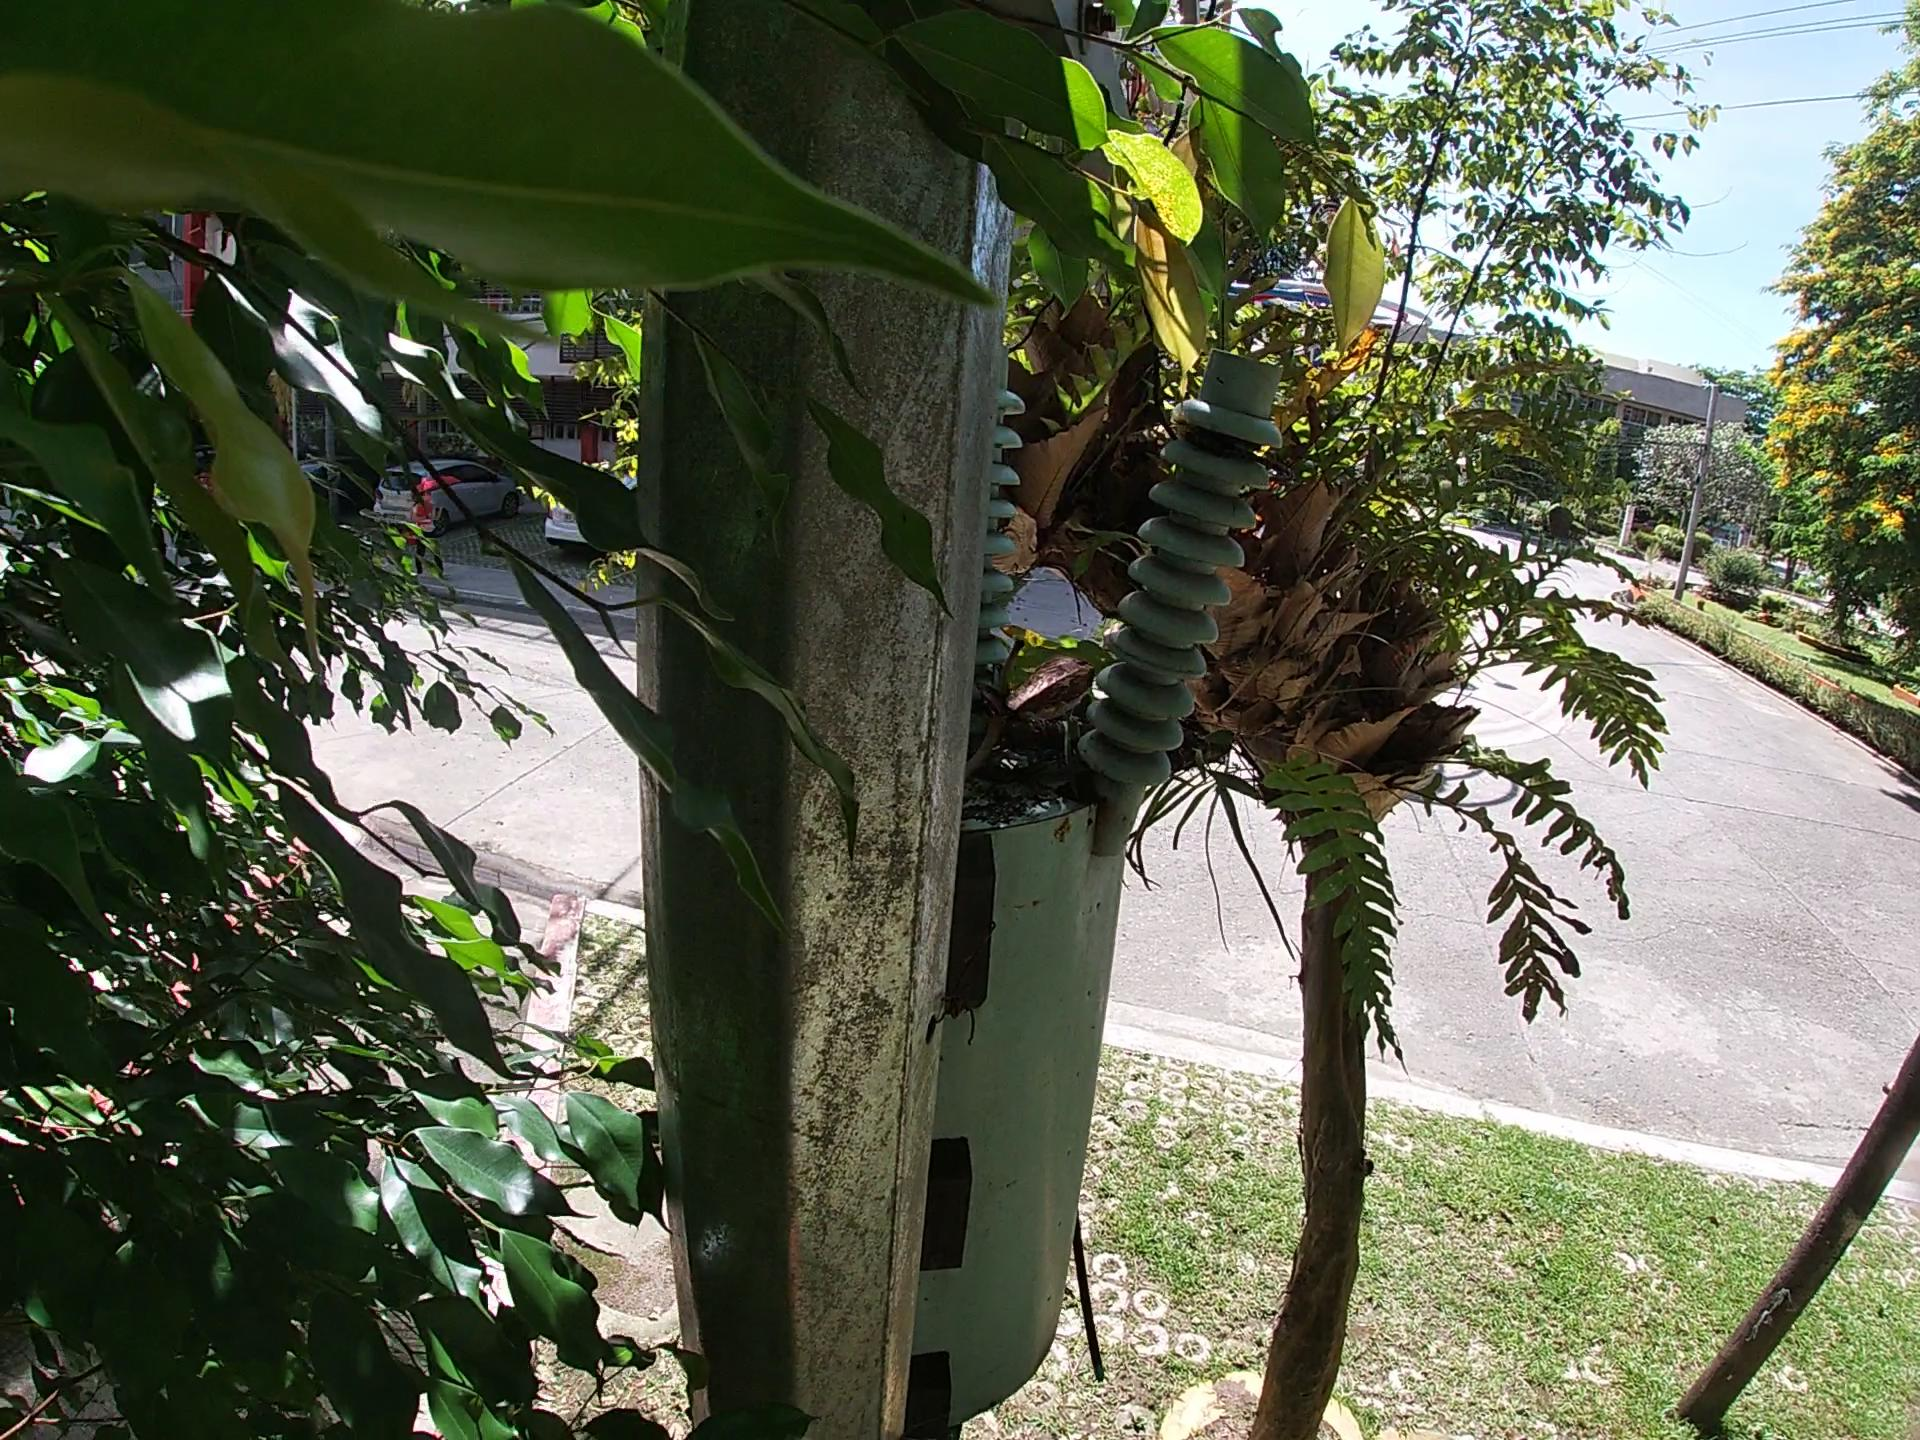branch with leaves: (993, 557, 1253, 829)
mahogany fruit: (1048, 588, 1134, 725), (1134, 722, 1141, 725), (1014, 573, 1019, 575)
tree branch: (821, 483, 1175, 914)
